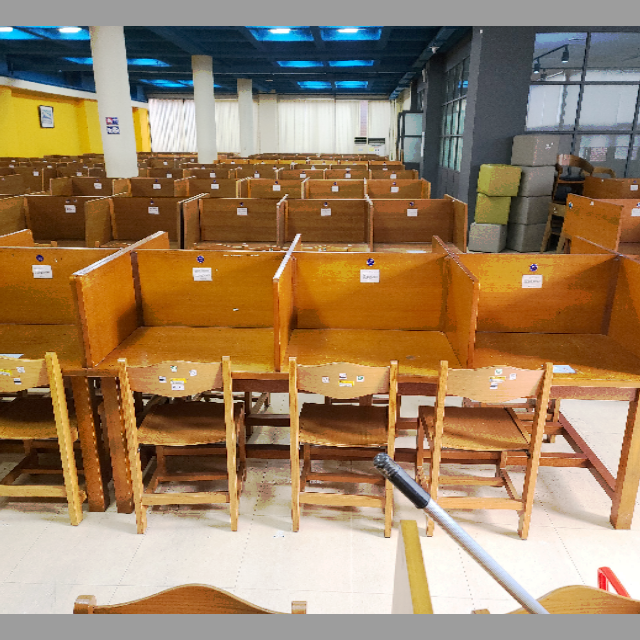empty: (286, 274, 456, 442), (103, 271, 269, 434), (483, 274, 632, 446)
